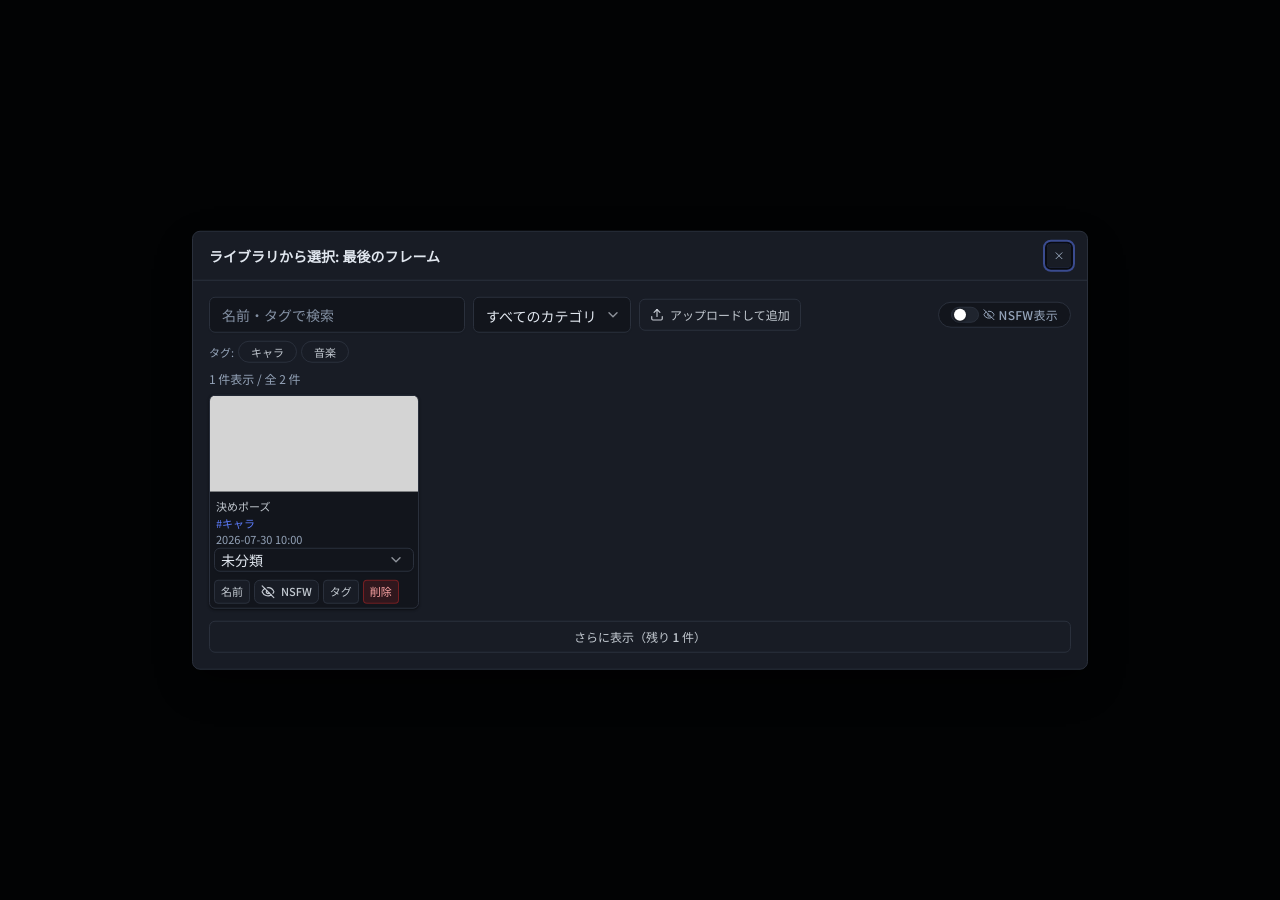
Test case: LibraryPickerModal › 続きがあるときだけ「さらに表示」を出し、offset を進めて継ぎ足す
Click the button "さらに表示（残り 1 件）". click: coordinates (640, 636)
box: [209, 620, 1071, 652]
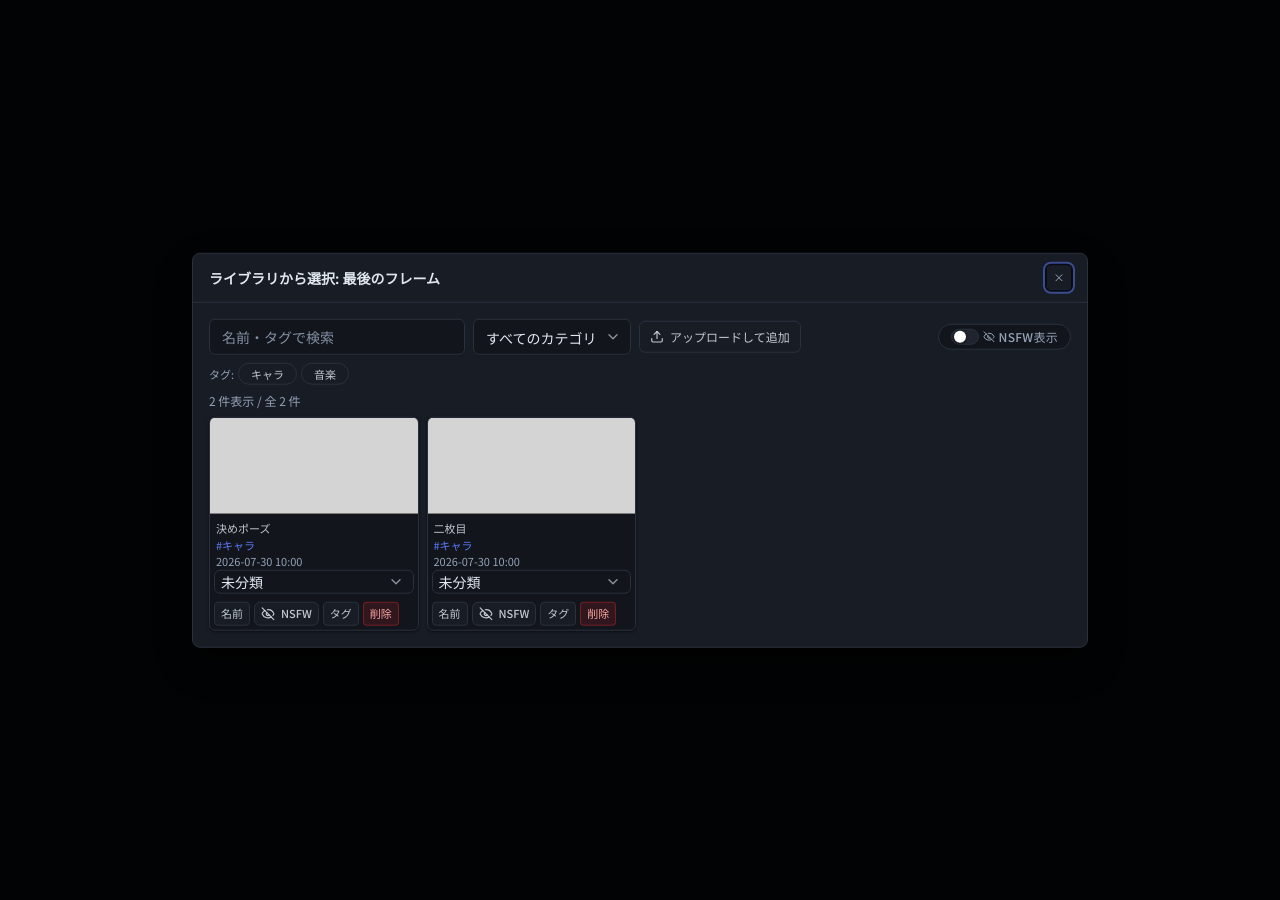
expect the text "決めポーズ" is shown: met, box [216, 520, 270, 536]
expect the text "二枚目" is shown: met, box [434, 520, 466, 536]
expect the button "さらに表示" is gone: met
